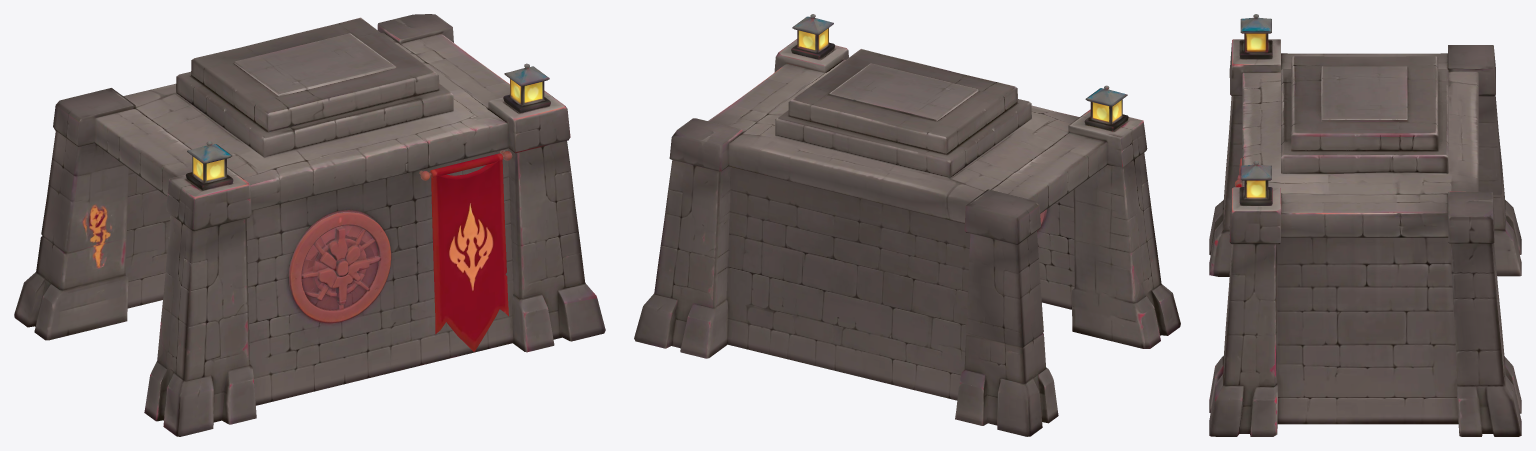
File: SM_Tripo_ZhurongDingPier.glb
The picture shows the model from 3 angles, left to right: view 1: azimuth 30°, elevation 25°; view 2: azimuth 150°, elevation 25°; view 3: azimuth 270°, elevation 25°; orthographic projection. The views are drawn at different scales.
Parts seen in each view (by area): view 1: SM_Tripo_ZhurongDingPier_LOD0; view 2: SM_Tripo_ZhurongDingPier_LOD0; view 3: SM_Tripo_ZhurongDingPier_LOD0.
Part boxes in pixels (x1,y1,x2,y2): SM_Tripo_ZhurongDingPier_LOD0: [14, 14, 605, 436]; SM_Tripo_ZhurongDingPier_LOD0: [634, 14, 1180, 436]; SM_Tripo_ZhurongDingPier_LOD0: [1209, 14, 1521, 436].
Size of the model in its own units: 13.57 by 8 by 9.03.
1 material, 1 textured.
